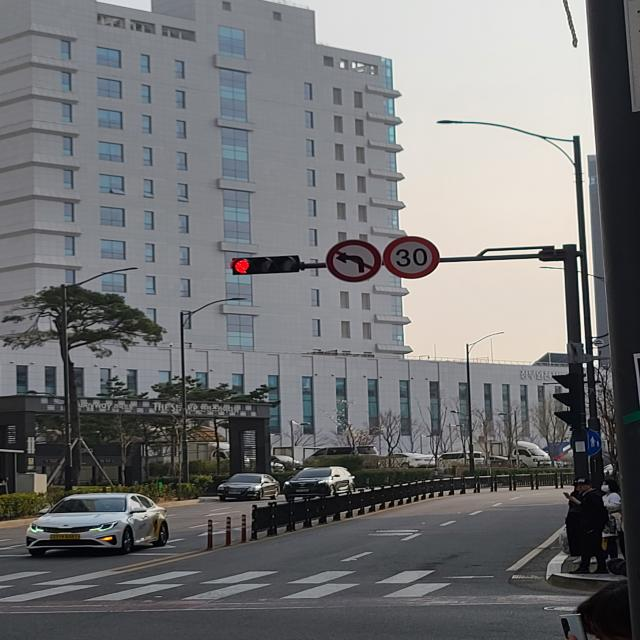Red Light: (228, 257, 253, 275)
